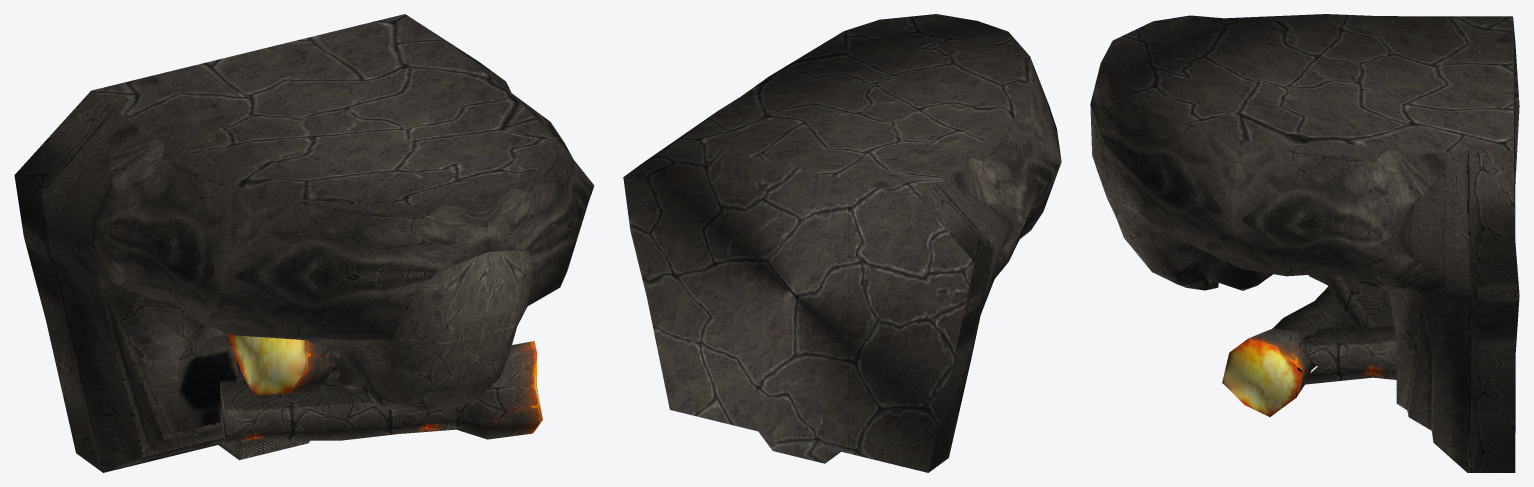
Rendered from Altar-gate-02.obj.
3 renders of one model, left to right at view 1: azimuth 30°, elevation 25°; view 2: azimuth 150°, elevation 25°; view 3: azimuth 270°, elevation 25°, orthographic. The views are drawn at different scales.
Visible parts, largest first — view 1: (null); view 2: (null); view 3: (null).
Part boxes in pixels (bbox=[...]): (null): bbox=[14, 14, 594, 472]; (null): bbox=[623, 14, 1061, 472]; (null): bbox=[1090, 14, 1519, 472].
Size of the model in its own units: 12.98 by 10.85 by 11.82.
